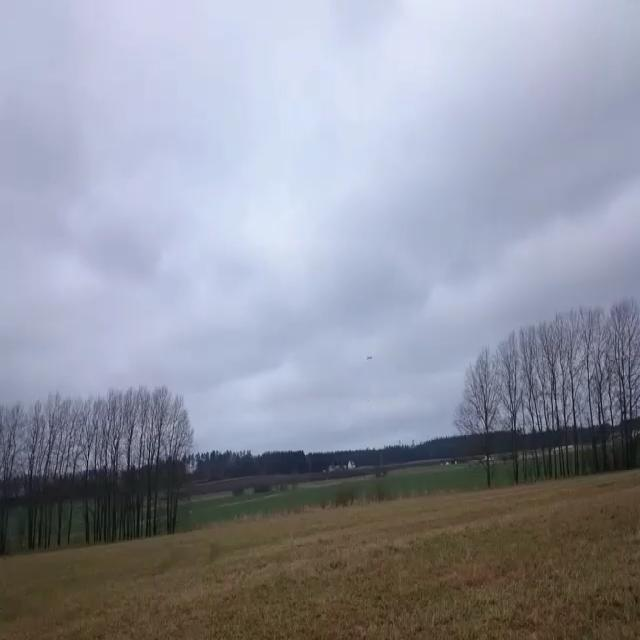Drone: (357, 344, 383, 365)
